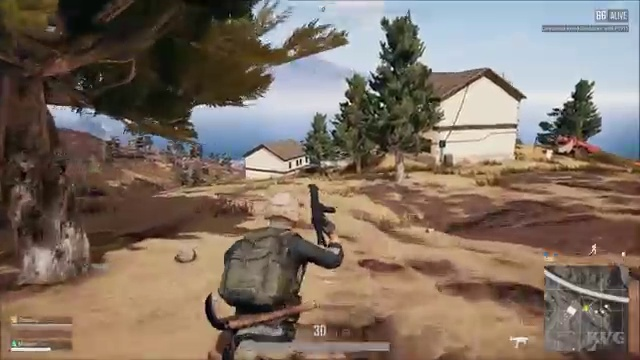Player: (191, 176, 366, 311)
